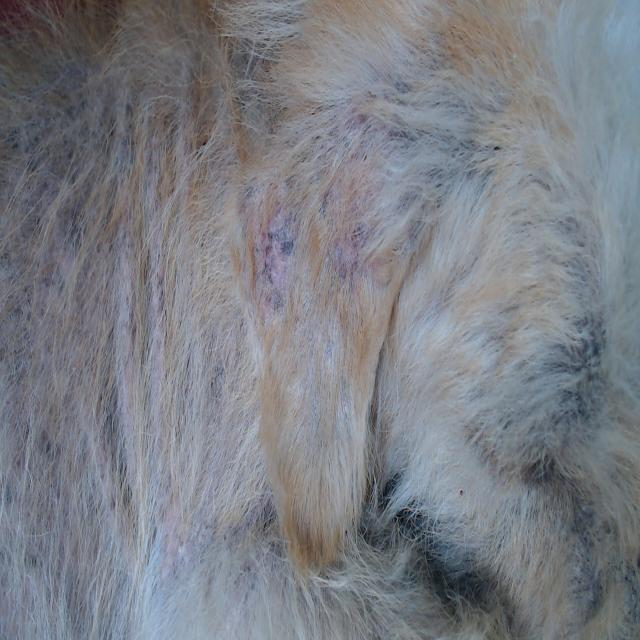demodicosis: (71, 241, 188, 475), (251, 201, 308, 306)
